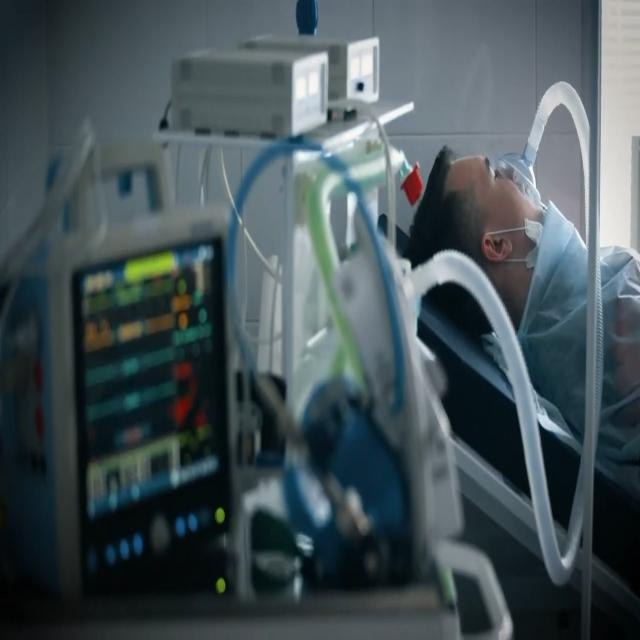Patient: (391, 79, 633, 504)
